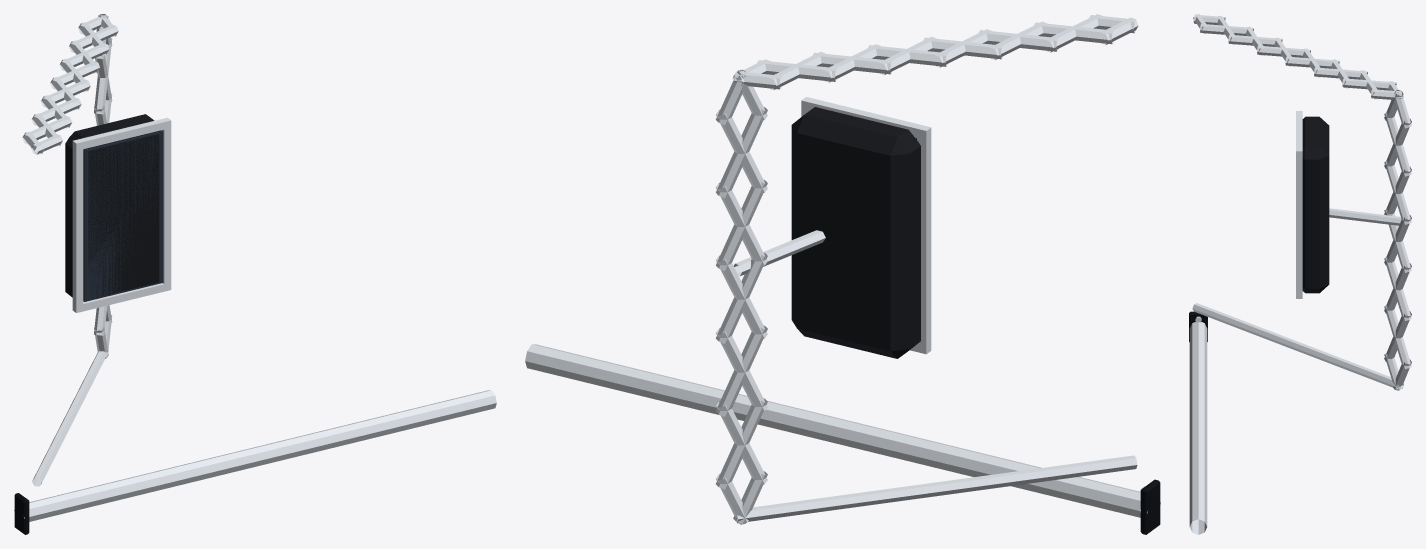
Rendered from mirror_stay_chain.glb.
3 renders of one model, left to right at view 1: azimuth 30°, elevation 25°; view 2: azimuth 150°, elevation 25°; view 3: azimuth 270°, elevation 25°, orthographic. The views are drawn at different scales.
Visible parts, largest first — view 1: mirror_stay_chain_chrome, mirror_stay_chain_deco_body, mirror_stay_chain_PADS_chrome, mirror_stay_chain_deco_mirror, mirror_stay_chain_PADF_deco_trim; view 2: mirror_stay_chain_chrome, mirror_stay_chain_deco_body, mirror_stay_chain_PADS_chrome, mirror_stay_chain_PADF_deco_trim; view 3: mirror_stay_chain_chrome, mirror_stay_chain_deco_body, mirror_stay_chain_PADS_chrome.
Part boxes in pixels (x1,y1,x2,y2): mirror_stay_chain_chrome: (22,14,171,486); mirror_stay_chain_deco_body: (65,114,161,297); mirror_stay_chain_PADS_chrome: (14,390,496,521); mirror_stay_chain_deco_mirror: (83,130,163,301); mirror_stay_chain_PADF_deco_trim: (14,493,29,534); mirror_stay_chain_chrome: (715,14,1138,524); mirror_stay_chain_deco_body: (791,107,920,358); mirror_stay_chain_PADS_chrome: (525,344,1160,517); mirror_stay_chain_PADF_deco_trim: (1140,479,1160,534); mirror_stay_chain_chrome: (1192,14,1411,390); mirror_stay_chain_deco_body: (1302,116,1329,293); mirror_stay_chain_PADS_chrome: (1189,322,1207,534).
Size of the model in its own units: 1 by 0.7776 by 0.4693.
